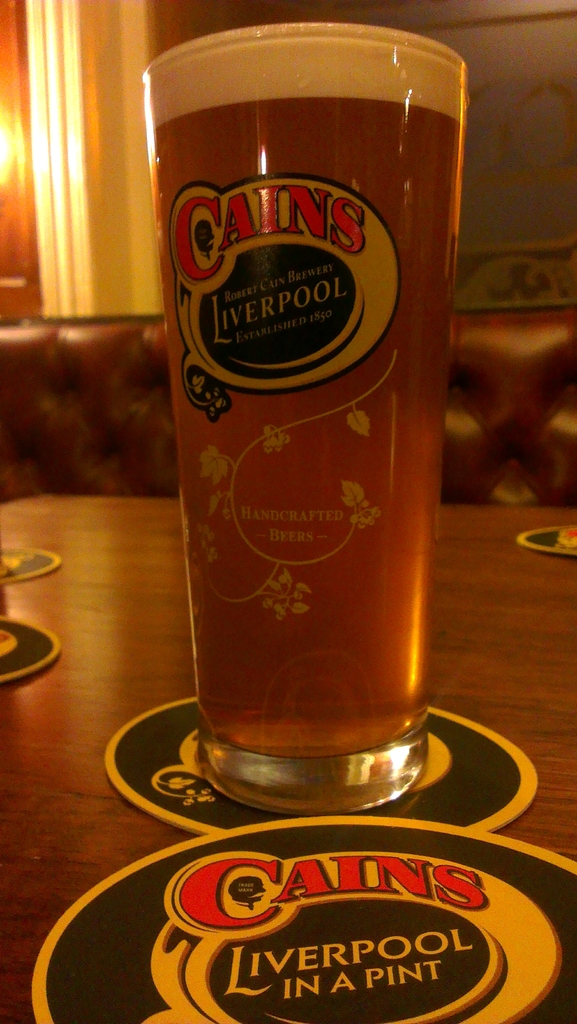Beer: (147, 28, 464, 763)
